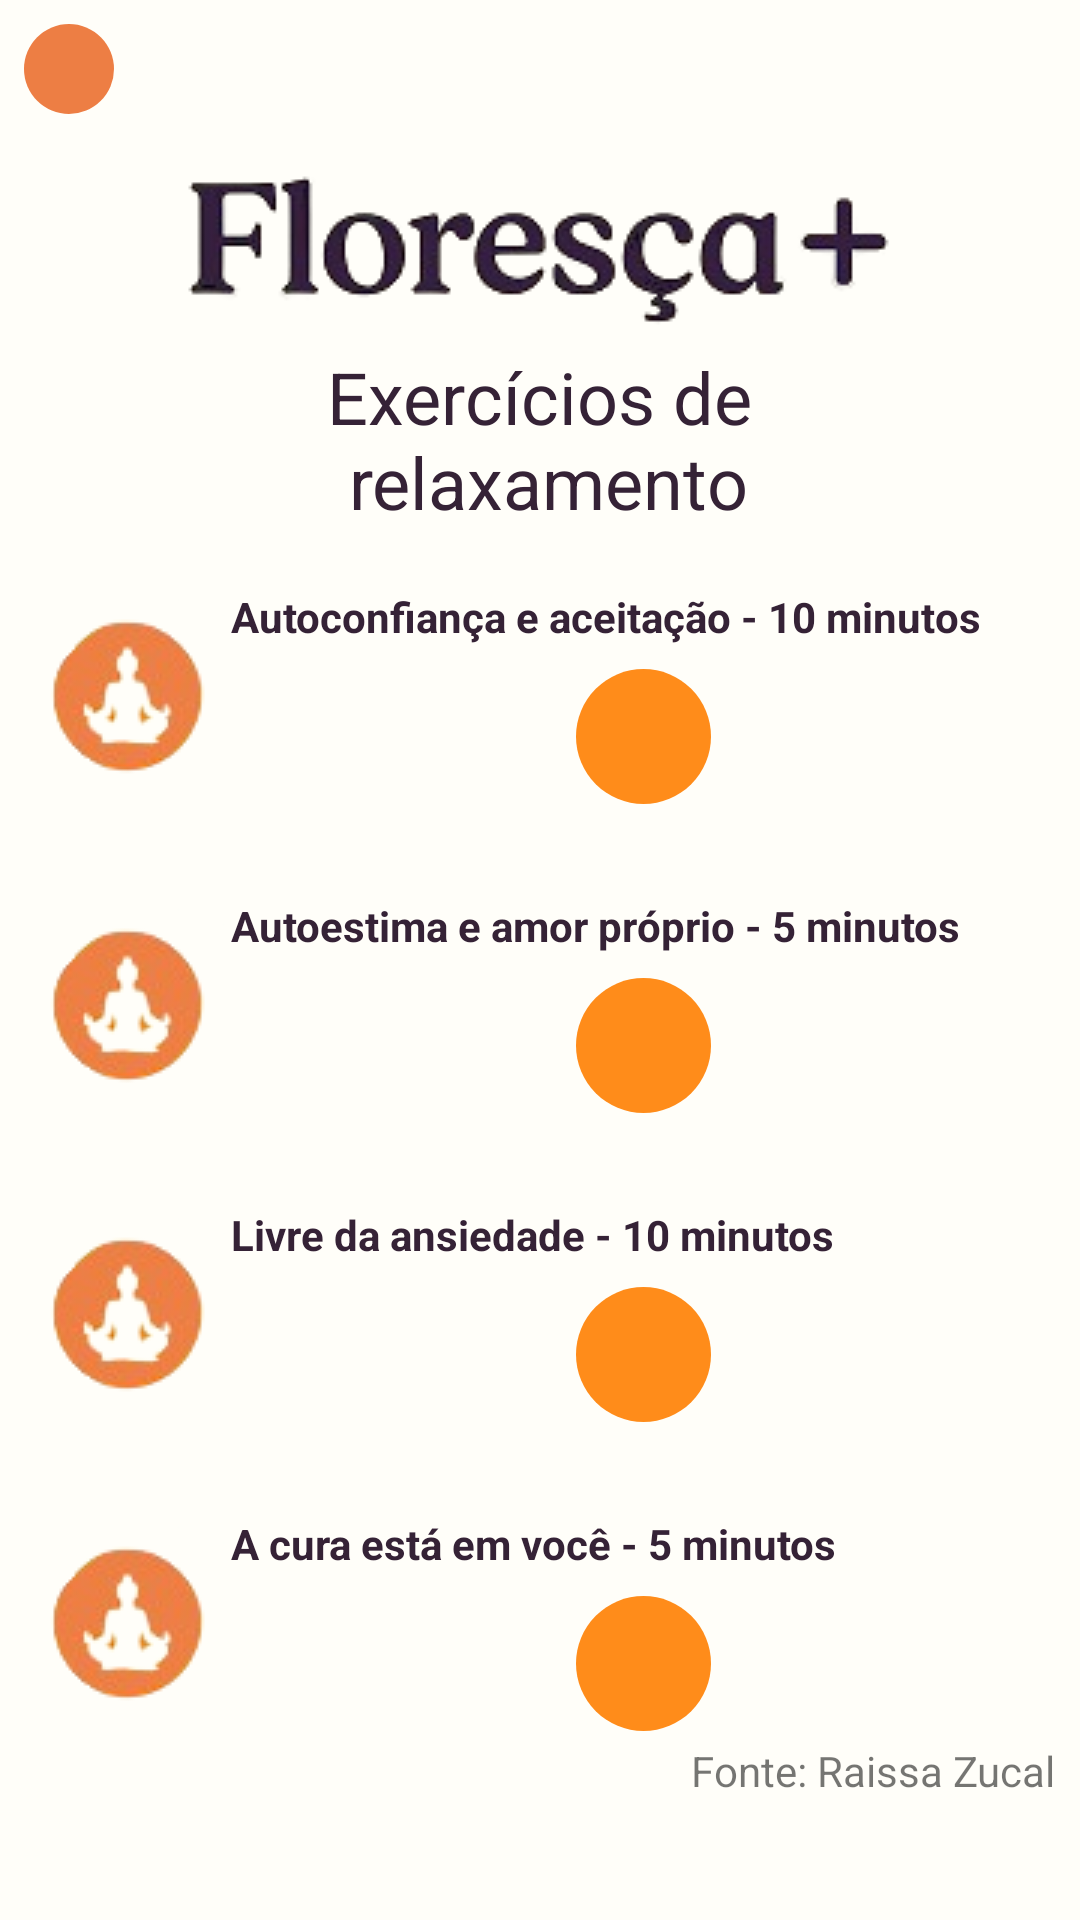

Where icons sit on this 1080px×1920px app screen, as (x1, y1, x2, y2):
relaxamenticon: (53, 622, 204, 771), (53, 931, 204, 1080), (53, 1240, 204, 1389), (53, 1549, 204, 1698)
